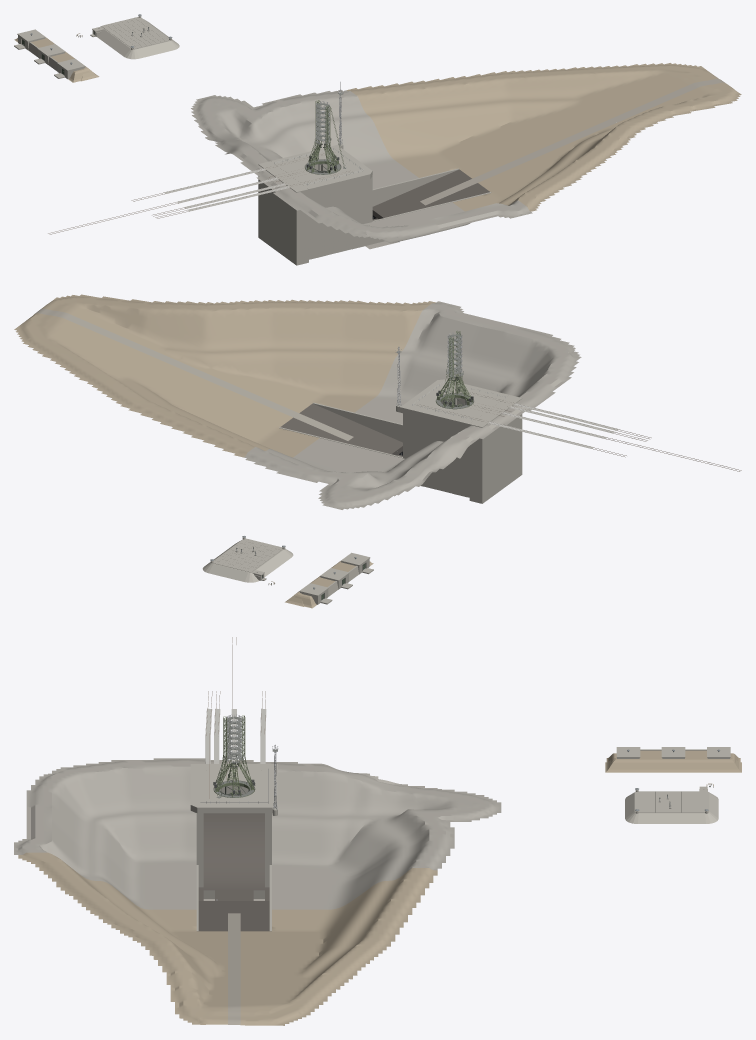
The model's file is soyuz.glb.
The picture shows the model from 3 angles, top to bottom: view 1: azimuth 30°, elevation 25°; view 2: azimuth 150°, elevation 25°; view 3: azimuth 270°, elevation 25°; orthographic projection. The views are drawn at different scales.
Parts seen in each view (by area): view 1: FlamePit_Earth, FlamePit_Lining, Platform_ConcretePylons, Platform_Concrete, FlamePit_Road, FlamePit_Scorch, CommandBunker_ConcreteFacing, Tracks_Band, CommandBunker_ConcreteMound, FlamePit_ScorchSump, StorageBunker_ConcreteRoofs, StorageBunker_Earth (+2 smaller); view 2: FlamePit_Earth, FlamePit_Lining, Platform_ConcretePylons, Platform_Concrete, FlamePit_Road, FlamePit_Scorch, CommandBunker_ConcreteFacing, Tracks_Band, CommandBunker_ConcreteMound, FlamePit_ScorchSump, StorageBunker_ConcreteRoofs, StorageBunker_Earth (+1 smaller); view 3: FlamePit_Lining, FlamePit_Earth, FlameDeflector_Scorch, Platform_Concrete, StorageBunker_Earth, Platform_ConcretePylons, FlamePit_Scorch, CommandBunker_ConcreteFacing, CommandBunker_ConcreteMound, FlamePit_Road, Tracks_Band, FlamePit_ScorchSump (+1 smaller).
Part boxes in pixels (x1,y1,x2,y2): FlamePit_Earth: (347,63,741,211); FlamePit_Lining: (191,90,532,243); Platform_ConcretePylons: (258,161,491,265); Platform_Concrete: (271,144,372,194); FlamePit_Road: (420,78,724,205); FlamePit_Scorch: (372,169,489,220); CommandBunker_ConcreteFacing: (101,17,169,49); Tracks_Band: (164,168,289,211); CommandBunker_ConcreteMound: (97,17,179,59); FlamePit_ScorchSump: (372,192,427,219); StorageBunker_ConcreteRoofs: (17,29,85,71); StorageBunker_Earth: (14,37,99,82); FlamePit_Earth: (14,294,435,457); FlamePit_Lining: (244,301,581,509); Platform_ConcretePylons: (279,395,522,503); Platform_Concrete: (396,379,508,428); FlamePit_Road: (35,308,353,440); FlamePit_Scorch: (280,403,402,456); CommandBunker_ConcreteFacing: (212,539,282,572); Tracks_Band: (488,403,618,448); CommandBunker_ConcreteMound: (202,538,293,582); FlamePit_ScorchSump: (346,427,402,455); StorageBunker_ConcreteRoofs: (299,552,370,596); StorageBunker_Earth: (285,561,373,608); FlamePit_Lining: (14,758,501,909); FlamePit_Earth: (18,852,437,1025); FlameDeflector_Scorch: (198,813,269,890); Platform_Concrete: (190,770,277,815); StorageBunker_Earth: (605,750,741,772); Platform_ConcretePylons: (190,764,277,931); FlamePit_Scorch: (198,890,269,931); CommandBunker_ConcreteFacing: (635,791,707,812); CommandBunker_ConcreteMound: (625,792,718,823); FlamePit_Road: (228,913,240,1024); Tracks_Band: (205,708,266,763); FlamePit_ScorchSump: (198,901,269,913).
Size of the model in its own units: 418 by 85.27 by 344.
